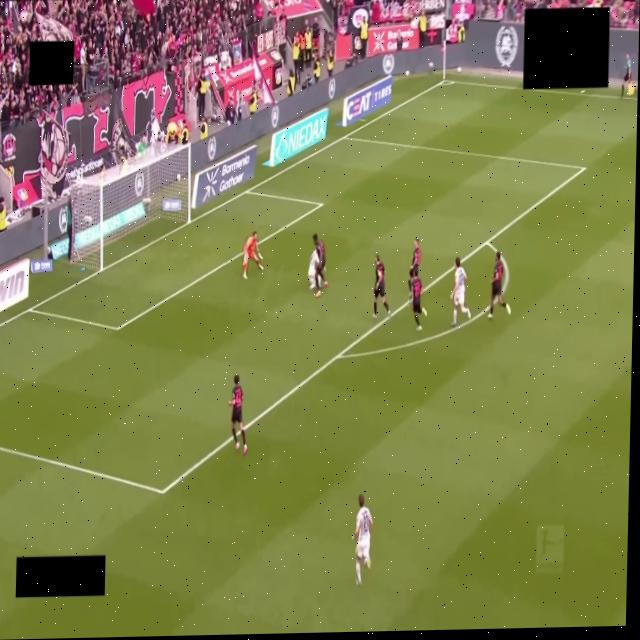player: (353, 495, 372, 585), (229, 375, 247, 454), (489, 252, 510, 318), (450, 258, 470, 327), (374, 255, 390, 319), (313, 234, 328, 297), (243, 232, 263, 279), (411, 277, 427, 330), (408, 239, 420, 300), (308, 249, 317, 290)
